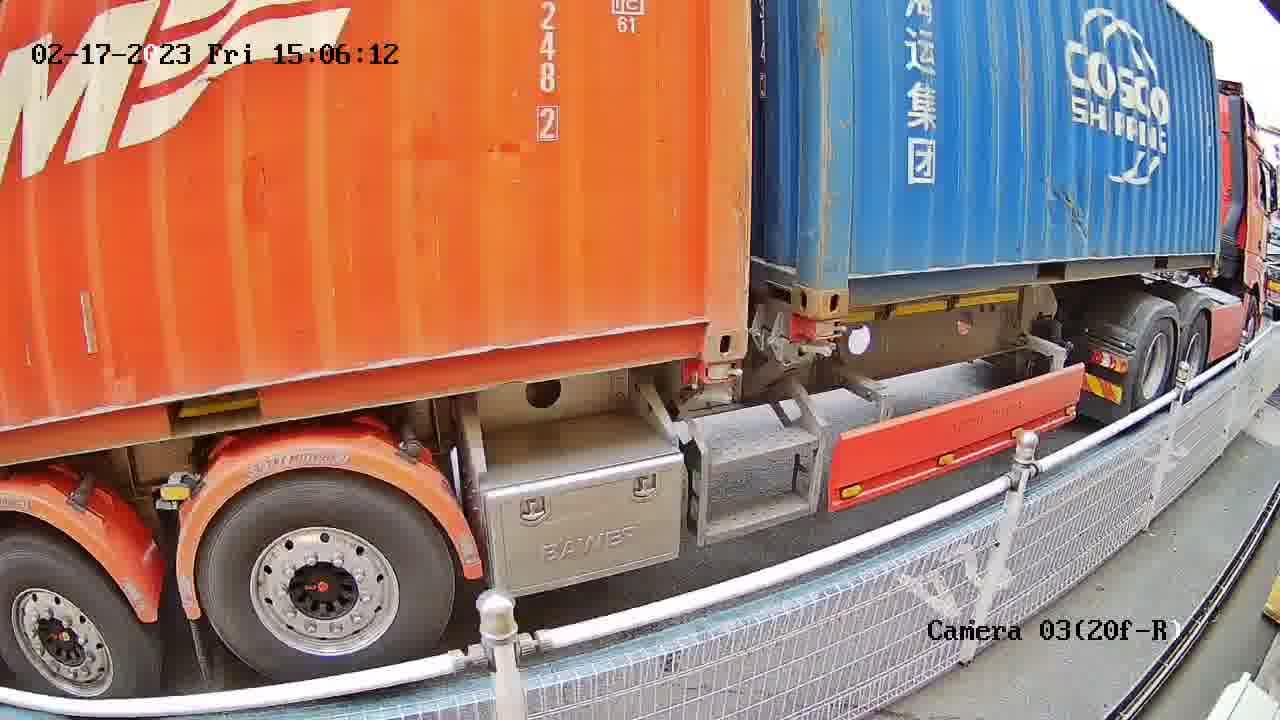Cone: (692, 362, 749, 405), (793, 319, 844, 359)
Hole_L: (821, 238, 896, 314)
Hole_R: (658, 280, 750, 363), (759, 226, 821, 314)
Tire: (199, 475, 453, 700), (1, 543, 146, 717), (1132, 316, 1180, 413), (1183, 314, 1210, 398)
